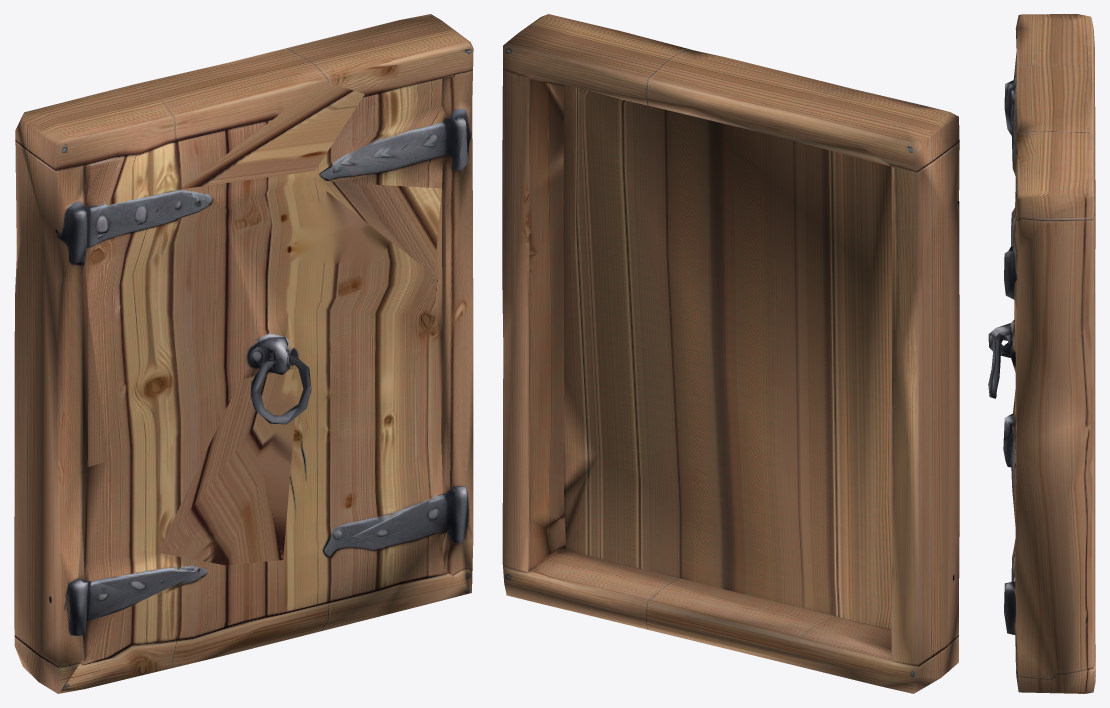
The model's file is porte_bois.glb.
3 renders of one model, left to right at view 1: azimuth 30°, elevation 25°; view 2: azimuth 150°, elevation 25°; view 3: azimuth 270°, elevation 25°, orthographic. The views are drawn at different scales.
Visible parts, largest first — view 1: Kit_Door_Wood_01.001; view 2: Kit_Door_Wood_01.001; view 3: Kit_Door_Wood_01.001.
Boxes of the visible parts, <box> form: Kit_Door_Wood_01.001: <box>14,14,473,693</box>; Kit_Door_Wood_01.001: <box>502,14,959,693</box>; Kit_Door_Wood_01.001: <box>988,14,1095,693</box>.
Bounding box in the file's own units: 0.7886 × 1 × 0.1941.
Materials: 1 (1 with a texture image).
